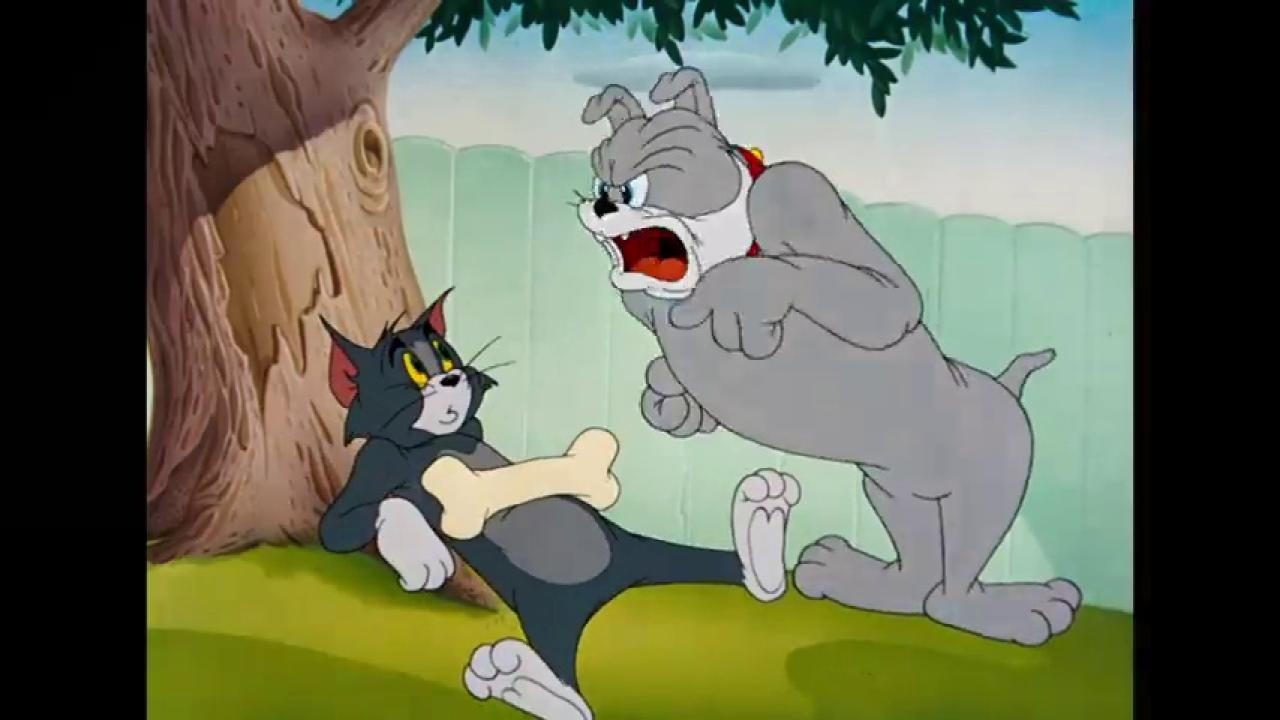Tom: (312, 283, 804, 720)
